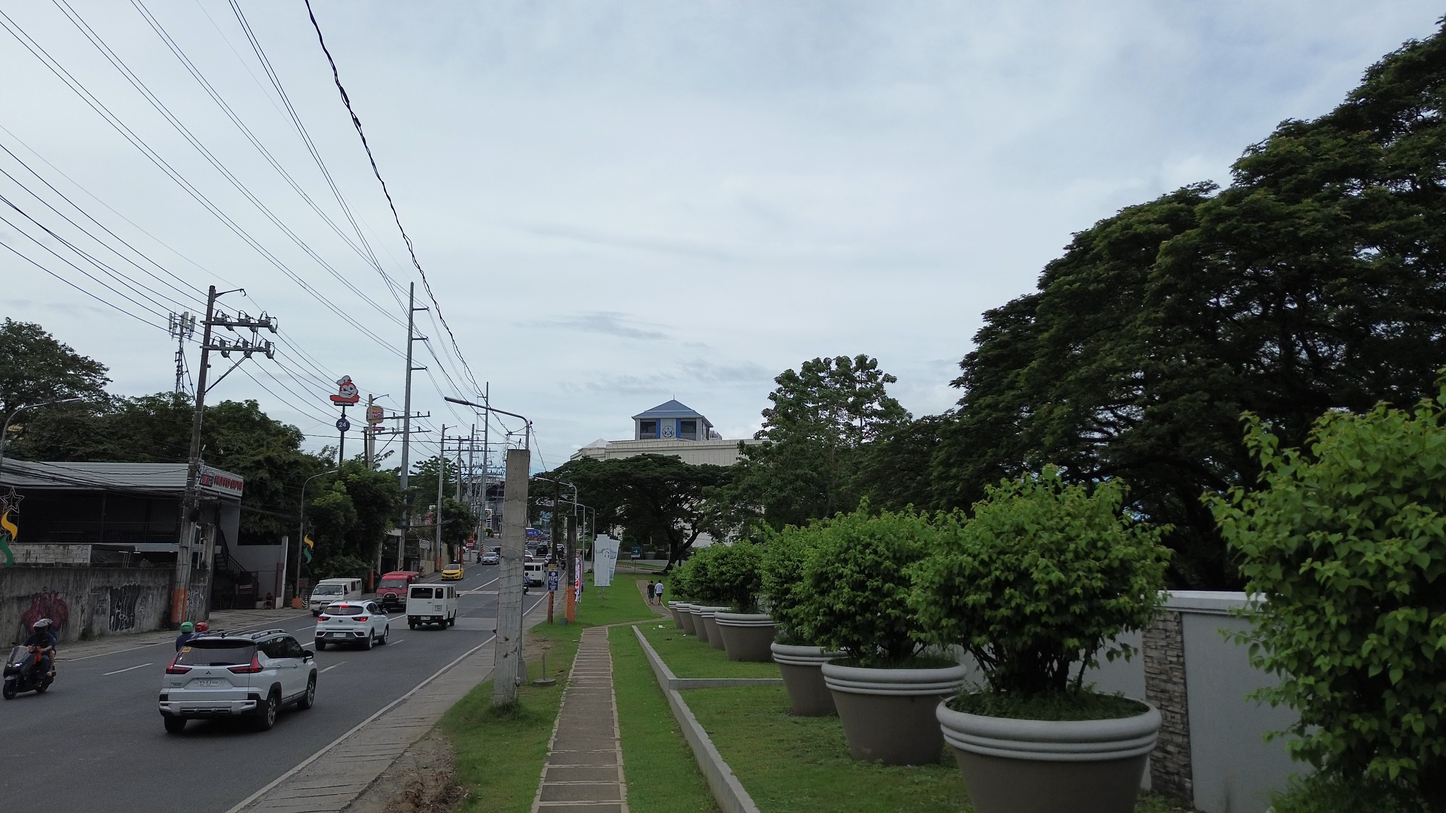vehicle: (159, 630, 317, 732), (315, 601, 389, 650), (0, 646, 54, 700), (406, 585, 458, 629), (310, 577, 363, 616), (376, 571, 420, 609), (524, 563, 545, 587), (440, 562, 464, 580), (480, 551, 500, 565)
